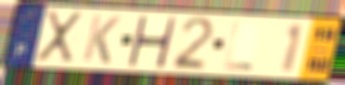1: (281, 21, 306, 75)
2: (171, 16, 217, 72)
H: (125, 13, 179, 70)
K: (80, 13, 123, 67)
L: (222, 20, 255, 72)
X: (35, 10, 85, 64)
